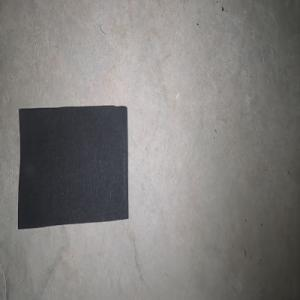PaintChip: (17, 105, 128, 229)
